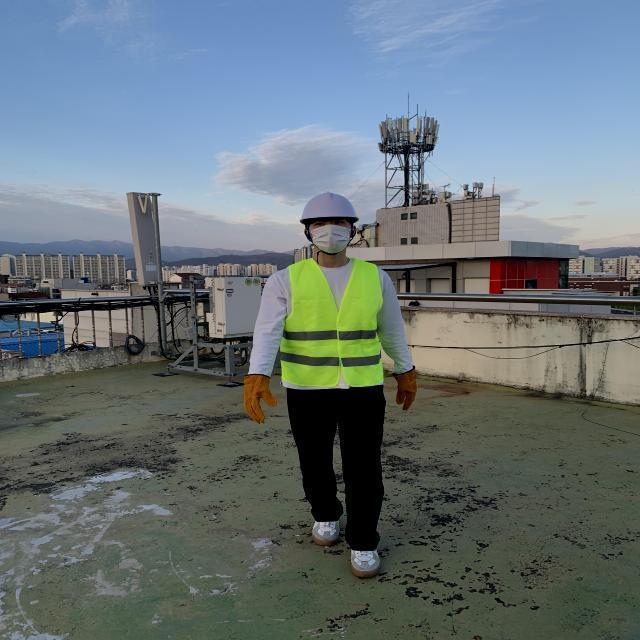vest: (280, 258, 384, 386)
